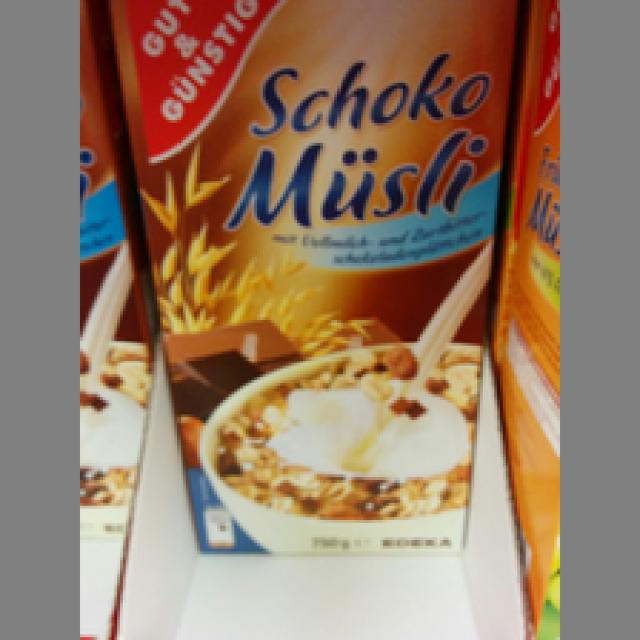groceries: (105, 0, 511, 551)
